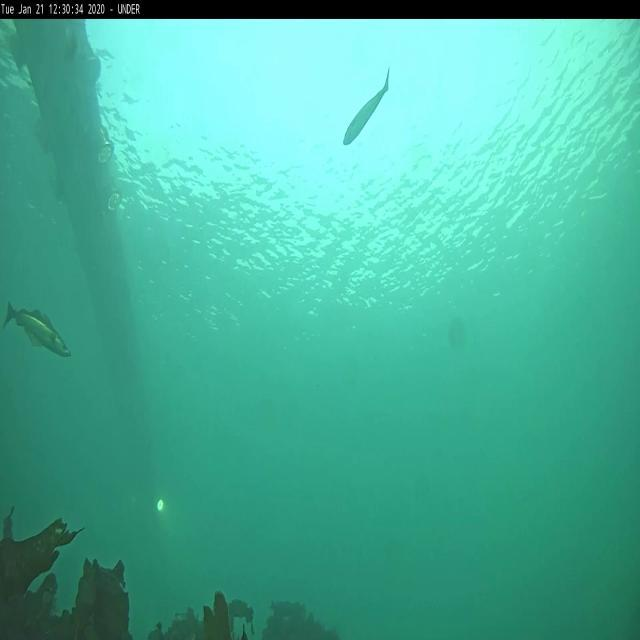fish: (342, 69, 392, 147), (5, 300, 70, 358)
